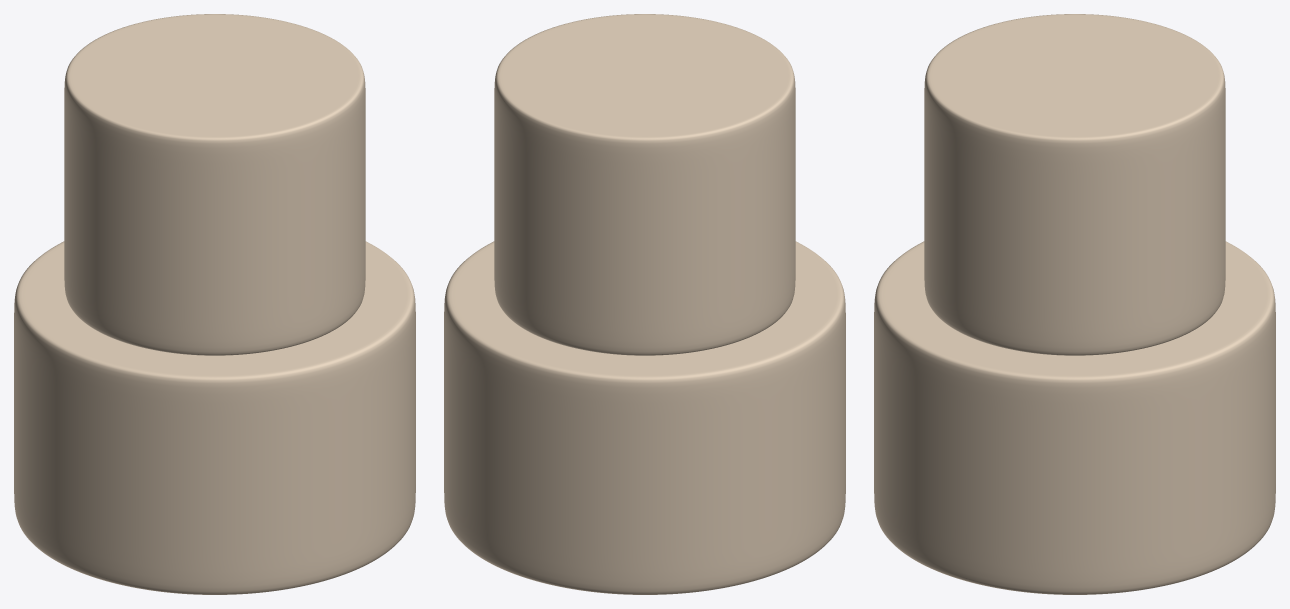
File: Cake_Layer_2_Cream.glb
3 renders of one model, left to right at view 1: azimuth 30°, elevation 25°; view 2: azimuth 150°, elevation 25°; view 3: azimuth 270°, elevation 25°, orthographic.
Visible parts, largest first — view 1: Circle.001, Circle.002; view 2: Circle.001, Circle.002; view 3: Circle.001, Circle.002.
Part boxes in pixels (box(x1,y1,x2,y2)): Circle.001: box(14, 241, 415, 594); Circle.002: box(64, 14, 365, 355); Circle.001: box(444, 241, 845, 594); Circle.002: box(494, 14, 795, 355); Circle.001: box(874, 241, 1275, 594); Circle.002: box(924, 14, 1225, 355).
Size of the model in its own units: 0.2 by 0.24 by 0.2.
